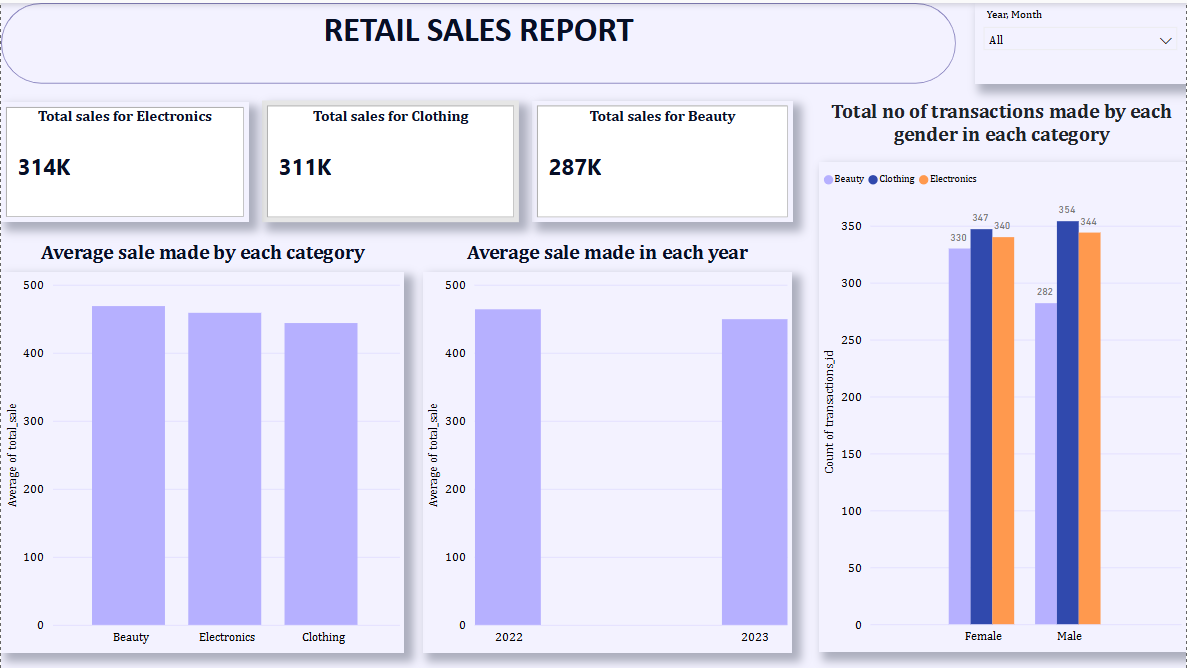

This screenshot's page, from the dashboard's own definition file:
{"tool":"powerbi","page":{"name":"Page 2","canvas":[1280,720],"ordinal":0},"visuals":[{"type":"cardVisual","fields":{"Data":["Key measures.Total sales Beauty"]},"box":[573.2,105.3,281.5,131.6],"z":0},{"type":"clusteredColumnChart","fields":{"Category":["sql retail sales.gender"],"Y":["CountNonNull(sql retail sales.transactions_id)"],"Series":["sql retail sales.category"]},"box":[883,172.2,397,528.6],"z":1000},{"type":"cardVisual","fields":{"Data":["Key measures.Total sales clothing"]},"box":[281.5,105.3,277.5,131.6],"z":2000},{"type":"columnChart","fields":{"Category":["sql retail sales.category"],"Y":["Avg(sql retail sales.total_sale)"]},"box":[0,289.6,435.4,411.1],"z":3000},{"type":"cardVisual","fields":{"Data":["Key measures.Total sales Electronics"]},"box":[0,107.3,267.3,129.6],"z":4000},{"type":"columnChart","fields":{"Category":["Date.Year"],"Y":["Avg(sql retail sales.total_sale)"]},"box":[455.7,289.6,399,411.1],"z":5000},{"type":"slicer","fields":{"Values":["Date.Year","Date.Month Name"]},"box":[1051.1,0,228.9,87.1],"z":6000},{"type":"shape","box":[0,0,1030.9,87.1],"z":7000},{"type":"textbox","box":[0,0,1030.9,87.1],"z":8000},{"type":"textbox","box":[0,107.3,267.3,38.5],"z":9000},{"type":"textbox","box":[281.5,107.3,277.5,46.6],"z":10000},{"type":"textbox","box":[573.2,107.3,281.5,38.5],"z":11000},{"type":"textbox","box":[883,99.2,394.9,72.9],"z":12000},{"type":"textbox","box":[455.7,251.1,399,38.5],"z":13000},{"type":"textbox","box":[0,251.1,435.4,38.5],"z":14000}]}

Visuals, with their boxes in screenshot pixels (x1, y1, x2, y2), scaled from the page's 1280x720 canvas onto the 1187x668 screenshot:
cardVisual - Key measures.Total sales Beauty: bbox(532, 98, 793, 220)
clusteredColumnChart - sql retail sales.gender x CountNonNull(sql retail sales.transactions_id): bbox(819, 160, 1186, 650)
cardVisual - Key measures.Total sales clothing: bbox(261, 98, 518, 220)
columnChart - sql retail sales.category x Avg(sql retail sales.total_sale): bbox(0, 269, 404, 650)
cardVisual - Key measures.Total sales Electronics: bbox(0, 100, 248, 220)
columnChart - Date.Year x Avg(sql retail sales.total_sale): bbox(423, 269, 793, 650)
slicer - Date.Year x Date.Month Name: bbox(975, 0, 1186, 81)
shape: bbox(0, 0, 956, 81)
textbox: bbox(0, 0, 956, 81)
textbox: bbox(0, 100, 248, 135)
textbox: bbox(261, 100, 518, 143)
textbox: bbox(532, 100, 793, 135)
textbox: bbox(819, 92, 1185, 160)
textbox: bbox(423, 233, 793, 269)
textbox: bbox(0, 233, 404, 269)
